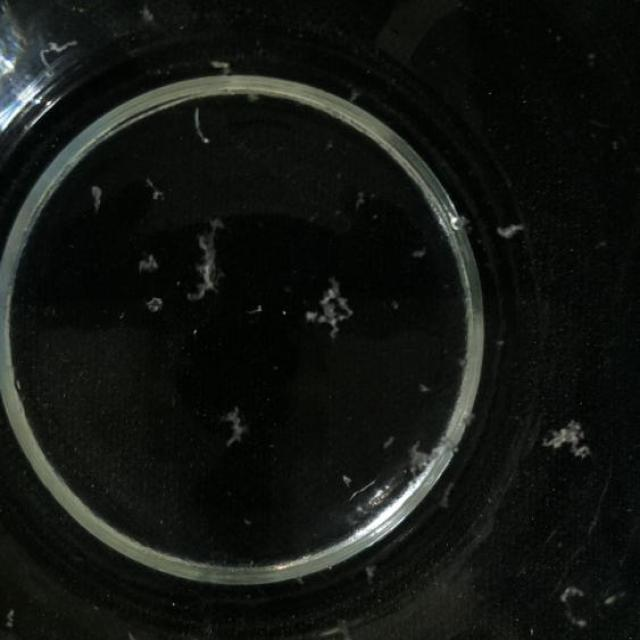fiber: (303, 280, 356, 335), (188, 220, 224, 300), (33, 26, 82, 76), (545, 410, 592, 459), (182, 95, 219, 143), (396, 438, 436, 476), (216, 404, 247, 451), (82, 175, 117, 215), (142, 169, 173, 206), (315, 618, 365, 639), (0, 596, 22, 636), (495, 219, 524, 247), (556, 578, 582, 609), (133, 249, 160, 277), (133, 0, 157, 30), (146, 292, 170, 319), (207, 54, 232, 78)
